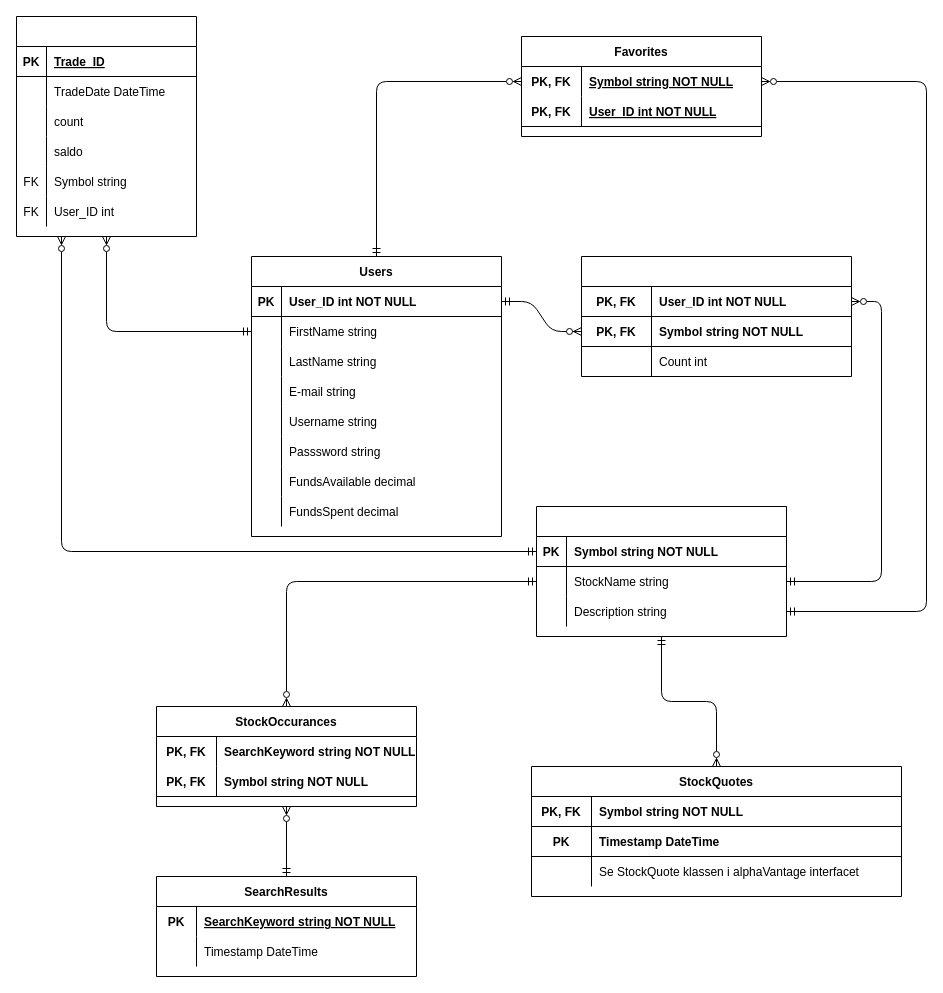
Some shapes in this 943 by 993 pixel diagram are drawn without their labels. The shapes that lost their labels are listed below. From the top down, each one's box as (x1, y1, x2, y2) in pixels, then its label:
(16, 16, 196, 236): Trades
(580, 256, 852, 376): StockOwnerships
(536, 506, 786, 636): Stocks
